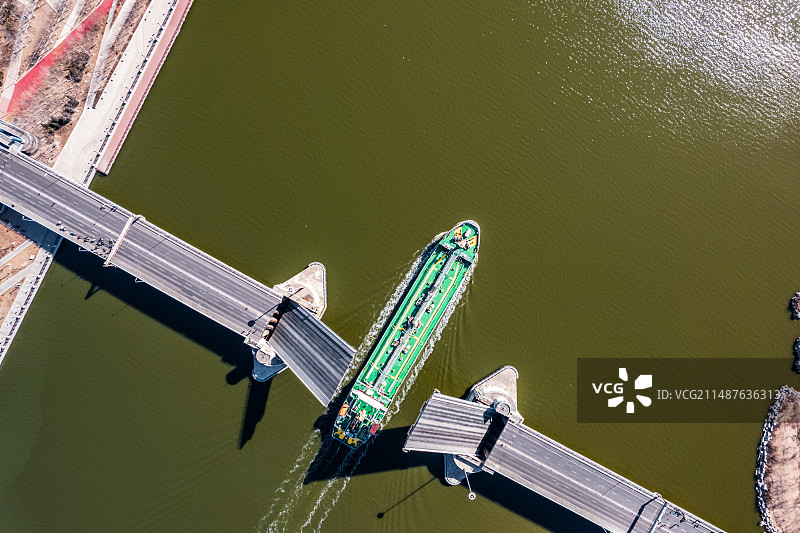ship: (327, 205, 482, 449)
